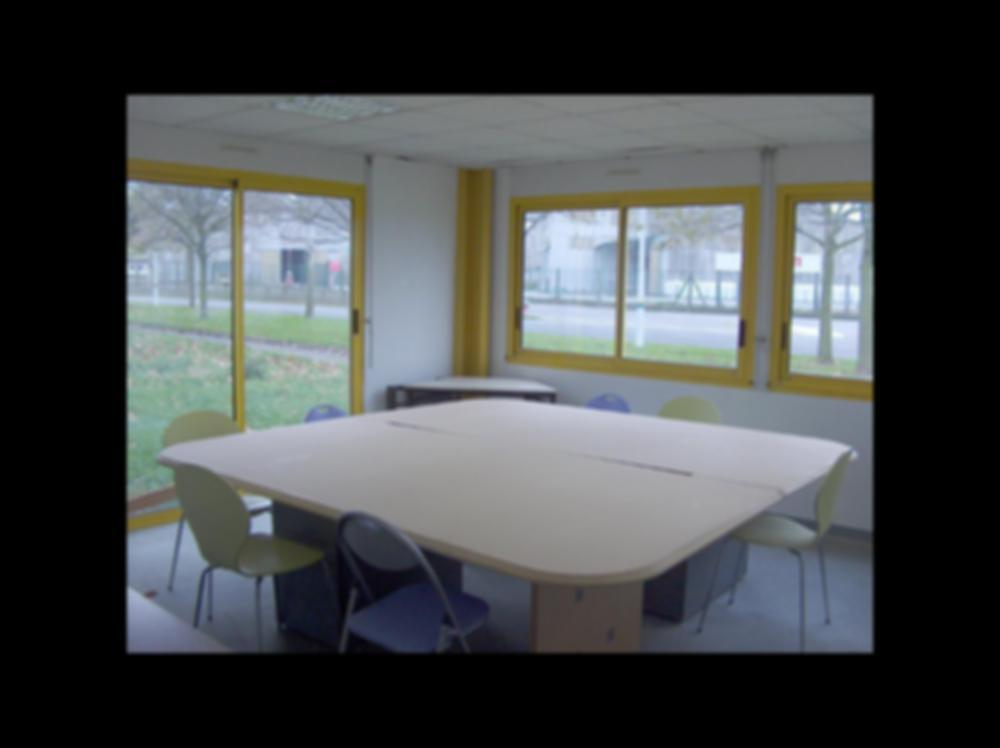Puerta: (237, 182, 362, 404)
